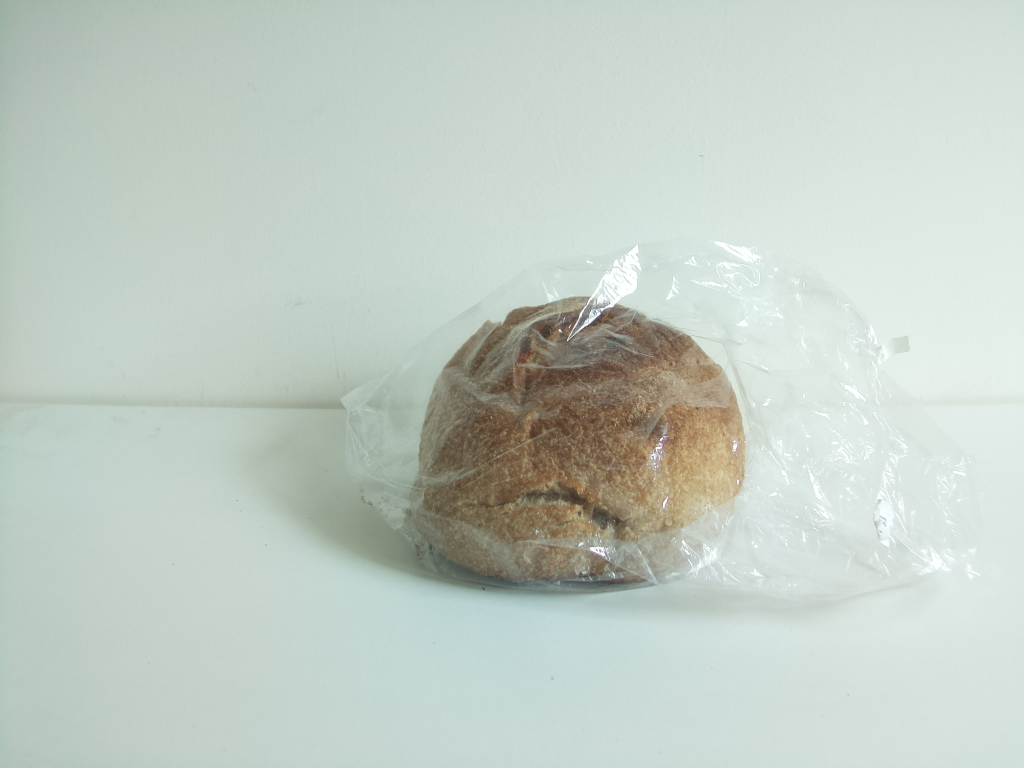bread: (405, 296, 749, 594)
